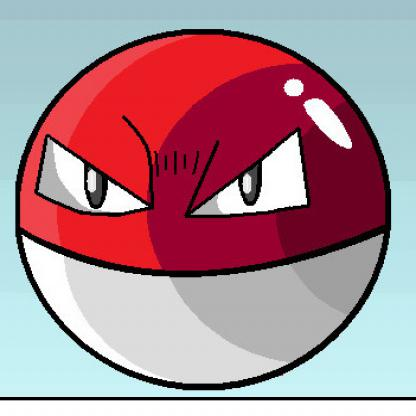Voltorb: (39, 31, 404, 404)
